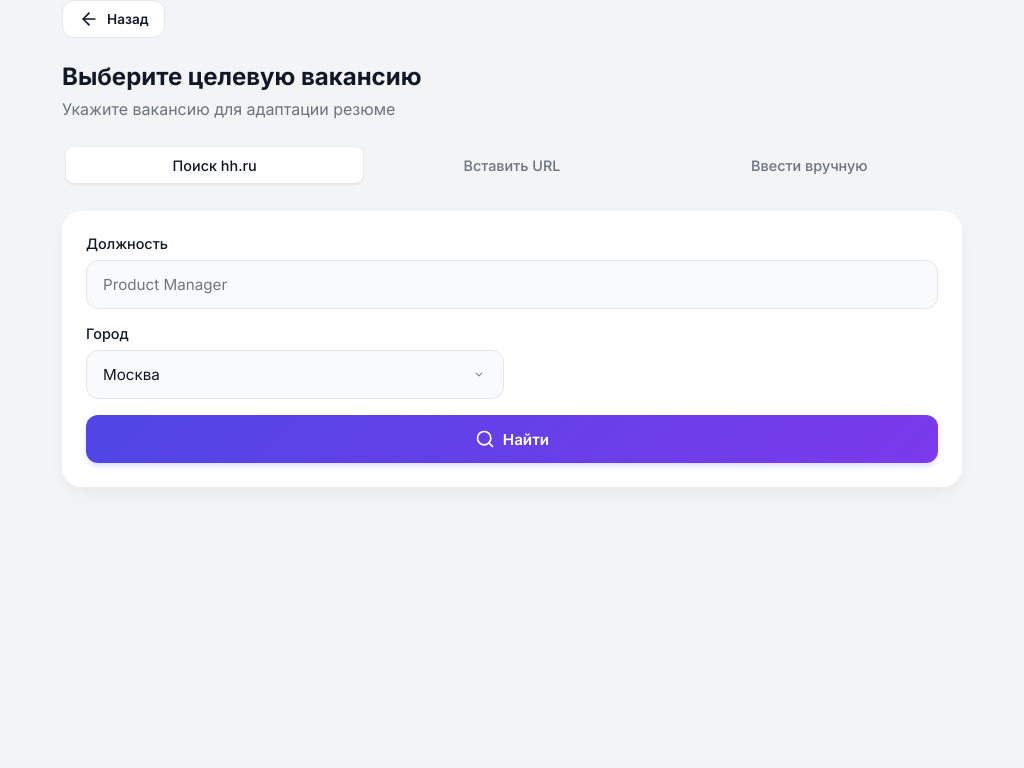
VacancyPage (v3) › performs search and shows results
Type "Python" into the field with placeholder "Product Manager". click: [512, 285]
box: [86,260,938,309]
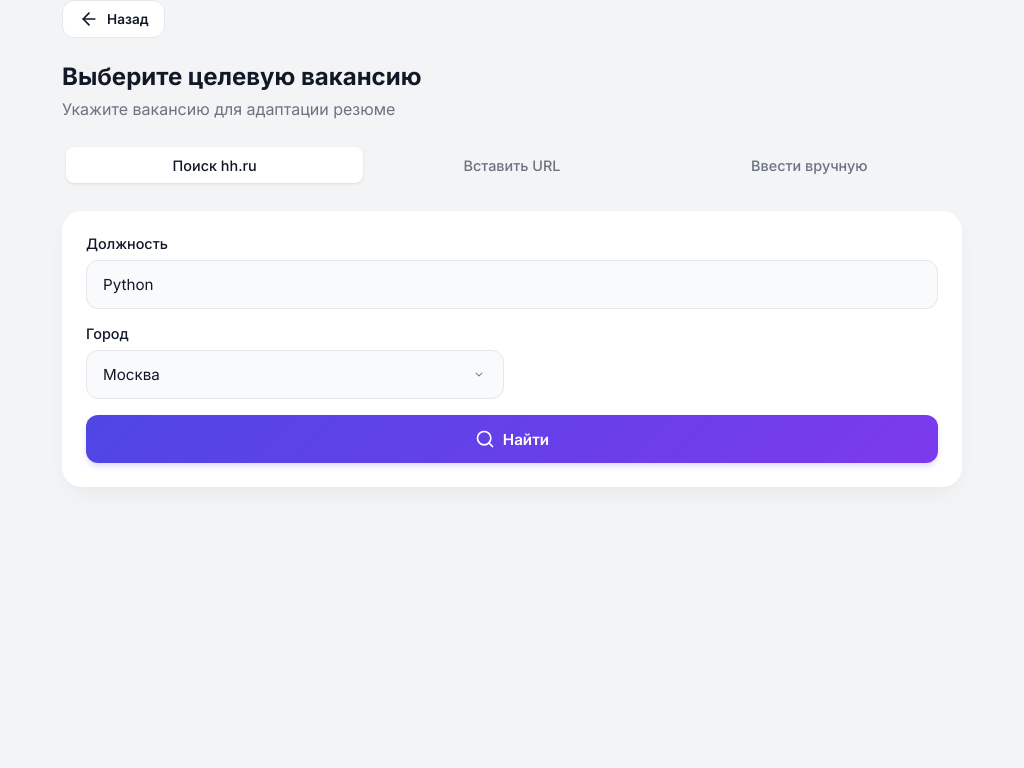
Click the button "Найти". click: [512, 439]
box: [86,415,938,463]
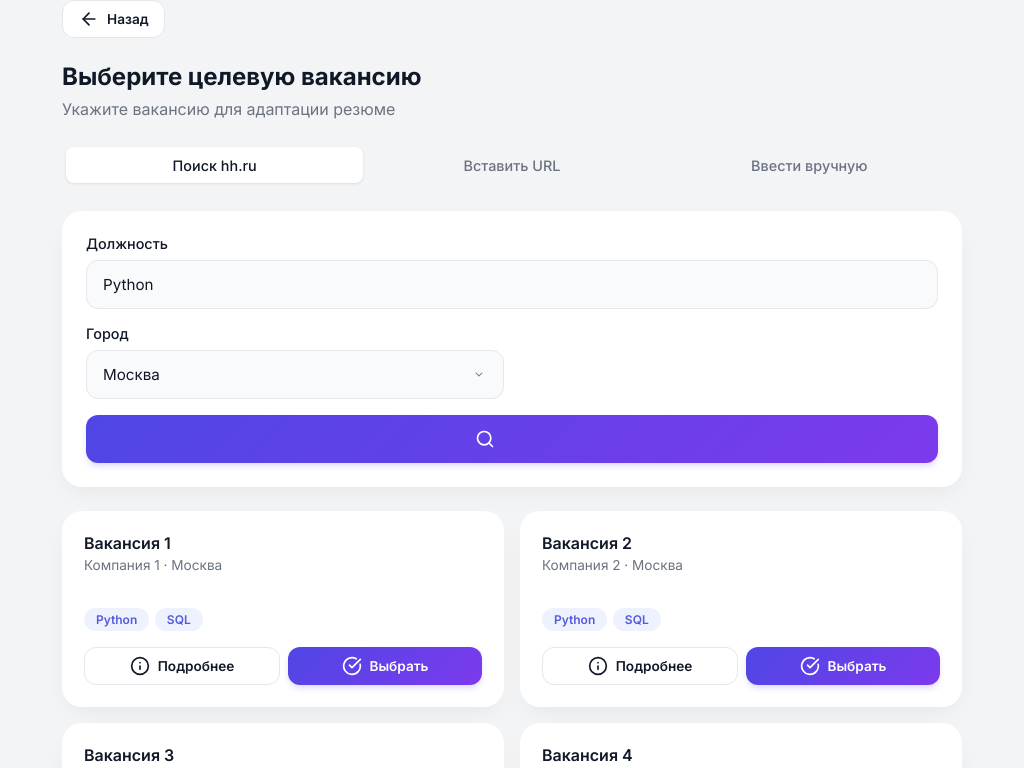
Now the heading "Вакансия 1" is shown, box [84,533,171,553]
